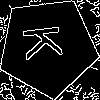K: (23, 22, 72, 61)
